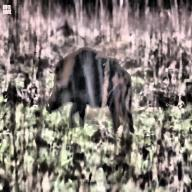boar: (39, 36, 142, 136)
